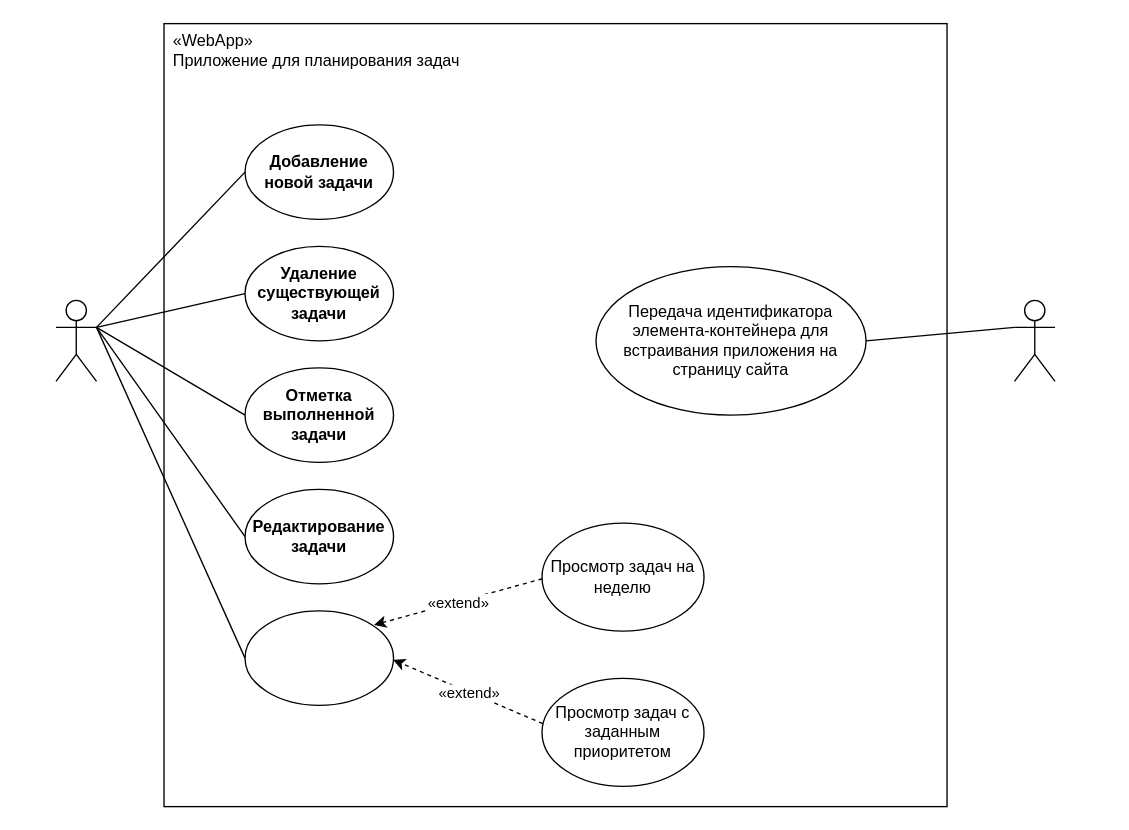
Some shapes in this 1129 by 830 pixel diagram are drawn without their labels. The shapes that lost their labels are listed below. From the top down, each one's centre as x and y in pixels, then its label:
pixel 76 340: Пользователь
pixel 1034 340: Разработчик сайта
pixel 319 657: Просмотр всех задач
